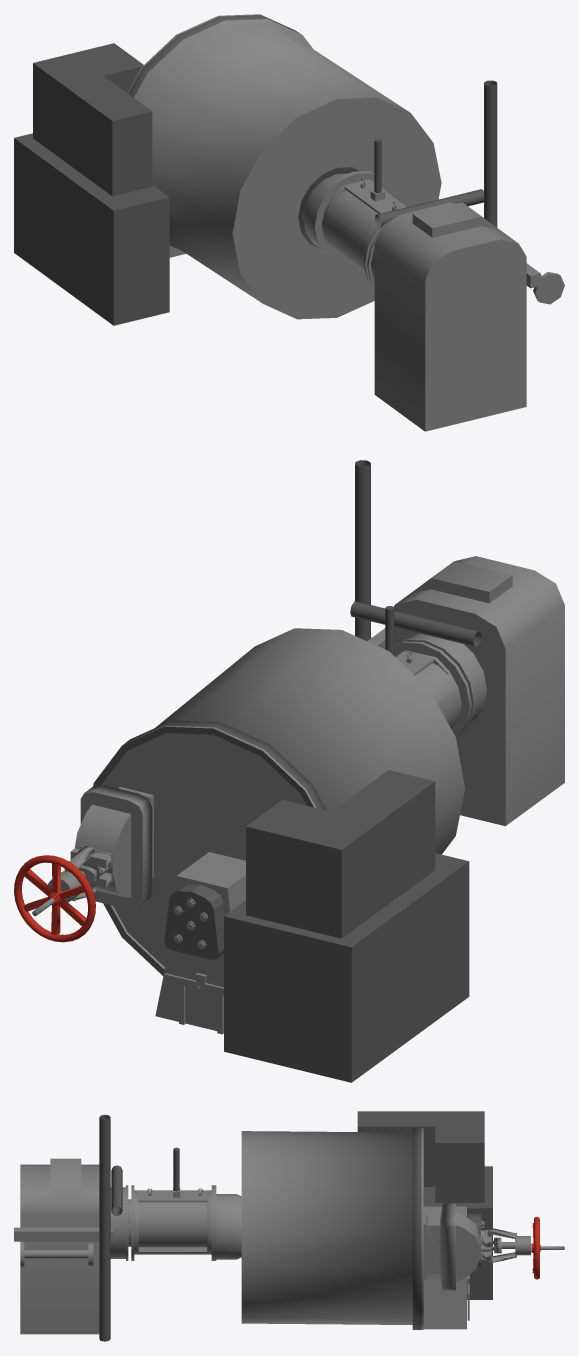
File: furnace.glb
3 views of the same model, one above another, from view 1: azimuth 30°, elevation 25°; view 2: azimuth 150°, elevation 25°; view 3: azimuth 270°, elevation 25° (orthographic). The views are drawn at different scales.
Parts seen in each view (by area): view 1: Cube.002; view 2: Cube.002; view 3: Cube.002.
Part boxes in pixels (x1=…): Cube.002: x1=14, y1=14, x2=564, y2=431; Cube.002: x1=14, y1=460, x2=564, y2=1082; Cube.002: x1=14, y1=1111, x2=564, y2=1341.
Bounding box in the file's own units: 1.94 × 1.99 × 4.29.
